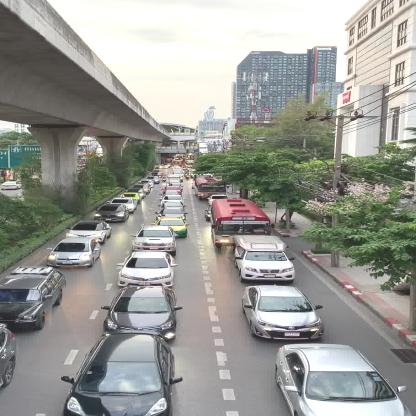bus: (210, 198, 272, 250)
car: (61, 330, 186, 415), (276, 342, 416, 416), (101, 284, 182, 338), (242, 286, 322, 340), (0, 267, 64, 329), (232, 234, 296, 284), (115, 250, 181, 288), (46, 238, 104, 268), (127, 225, 182, 256), (69, 221, 114, 243), (153, 217, 191, 237), (96, 203, 132, 222)
